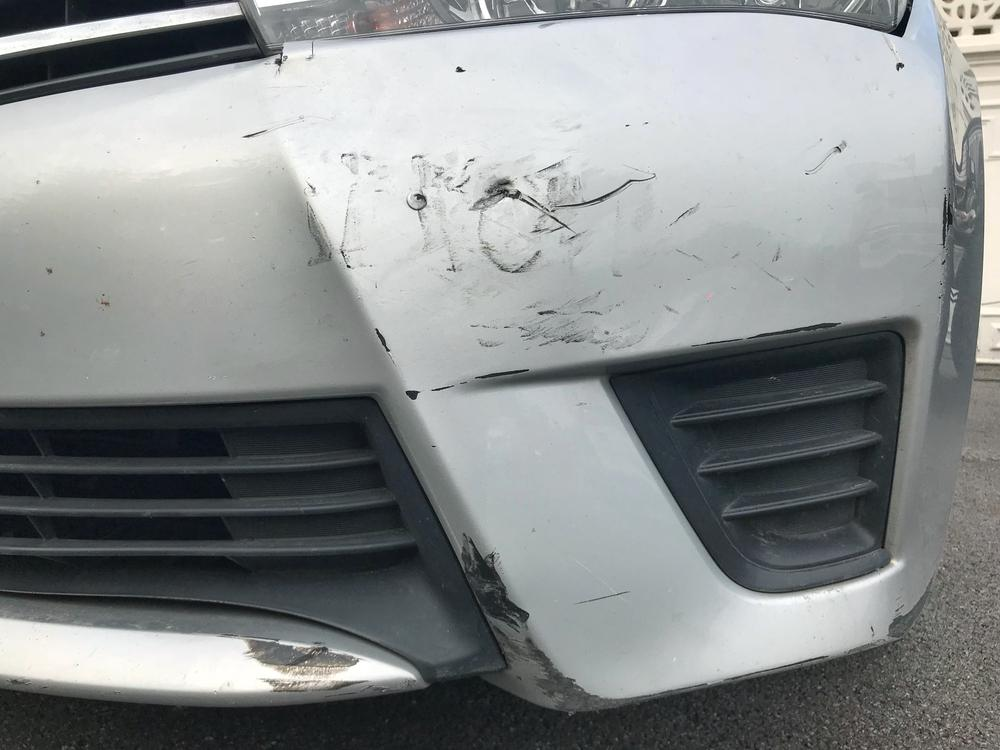scratch: (293, 137, 867, 405), (456, 535, 717, 714), (245, 635, 388, 701)
